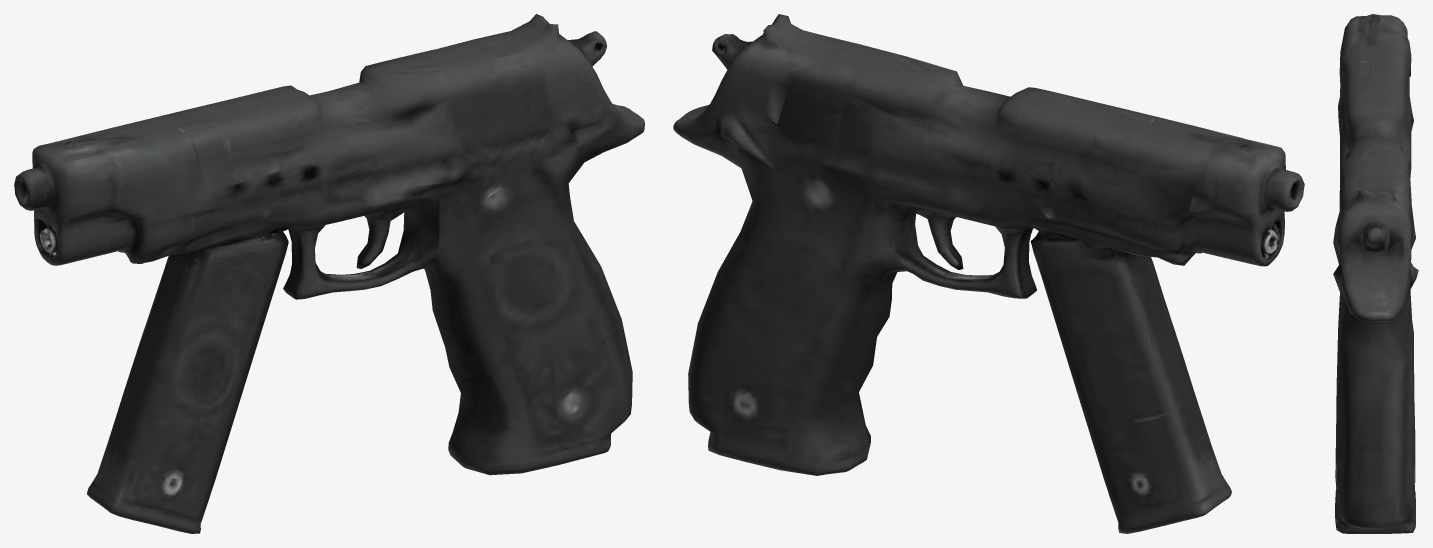
The model's file is pistol.glb.
3 views of the same model, side by side, from view 1: azimuth 30°, elevation 25°; view 2: azimuth 150°, elevation 25°; view 3: azimuth 270°, elevation 25° (orthographic). The views are drawn at different scales.
Bounding box in the file's own units: 1.91 × 1.26 × 0.2973.
Materials: 1 (1 with a texture image).
